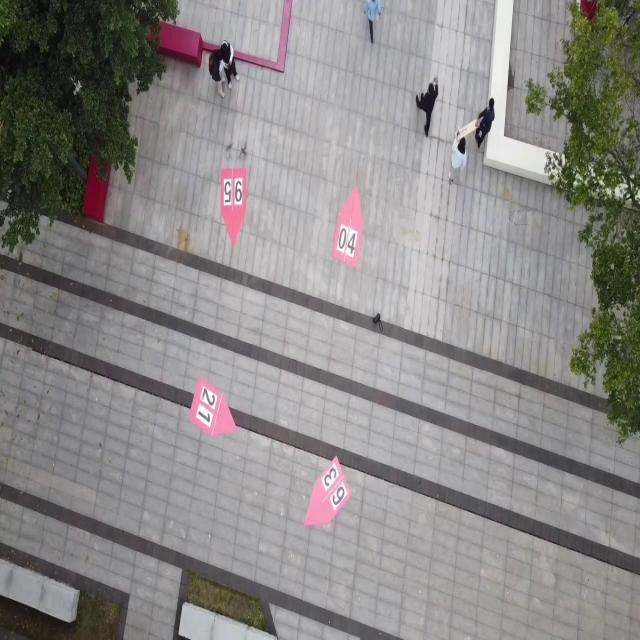-sign-: (303, 456, 352, 529), (188, 377, 237, 439), (332, 185, 364, 270), (220, 166, 248, 247)
